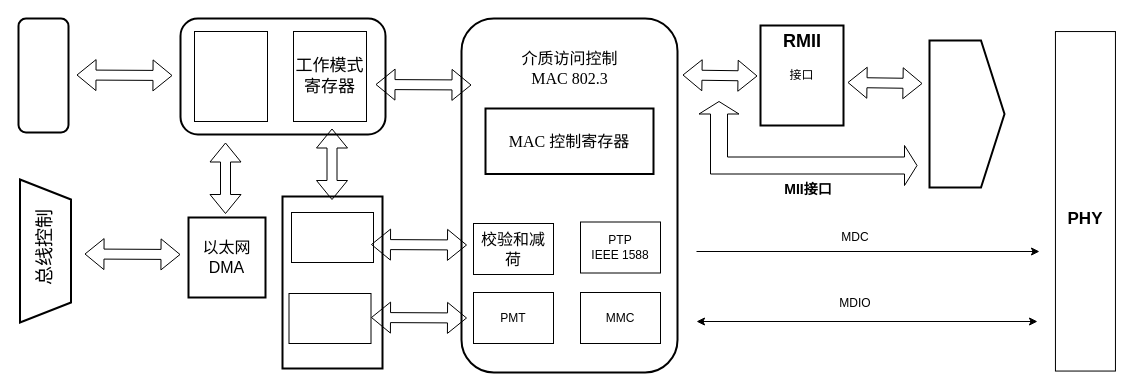
Image size: 1133x390. Some labels were removed from this diagram. The centre of each missing label's shape, as x and y in pixels:
2 KB RX FIFO: the point at 332,237
2 KB TX FIFO: the point at 329,318
AHB 从接口: the point at 43,75
DMA 控制与状态寄存器: the point at 231,76
选择: the point at 966,113
